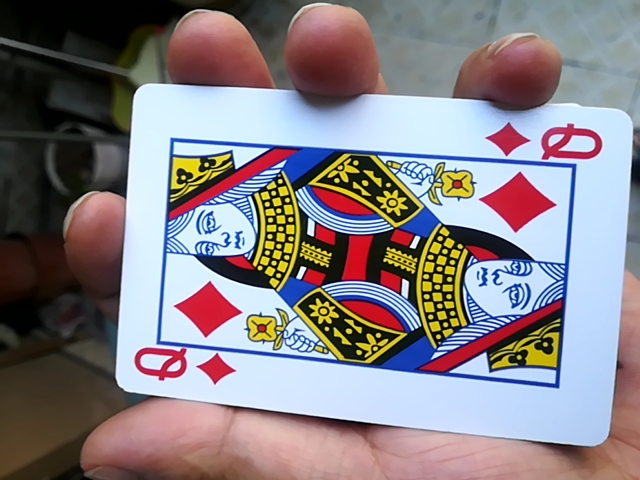fk q: (99, 81, 638, 451)
